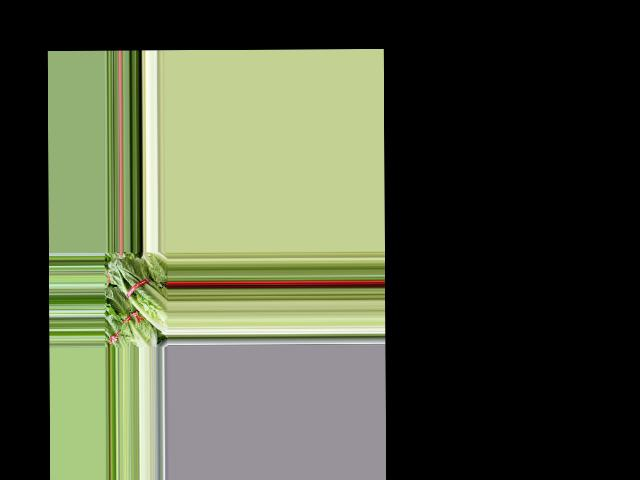lettuce: (107, 256, 168, 334)
